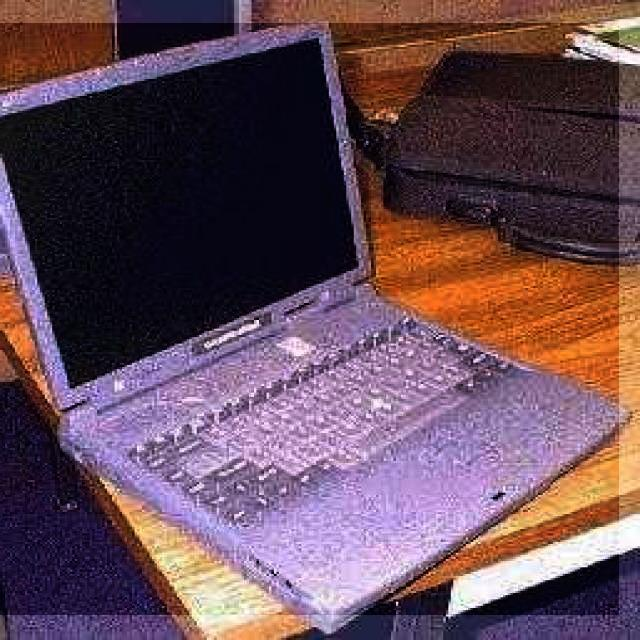-keyboard-: (0, 23, 619, 615)
